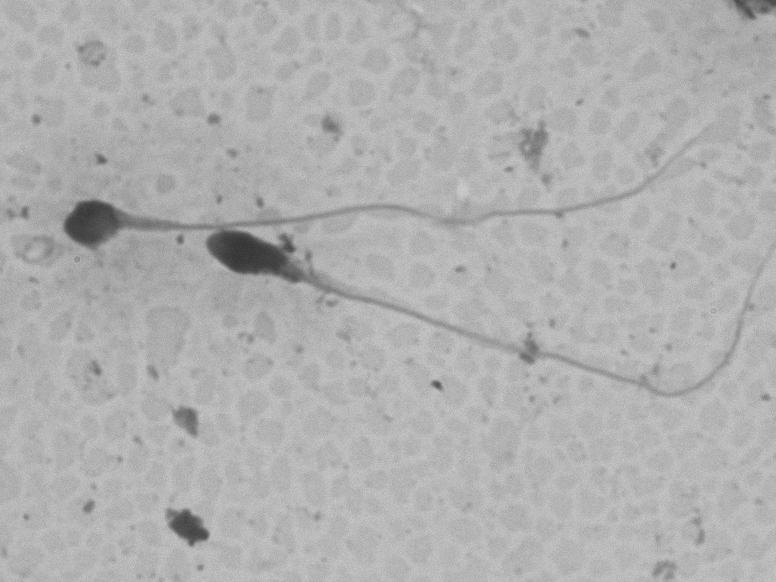Abnormal: (193, 226, 767, 411), (44, 111, 715, 261)
